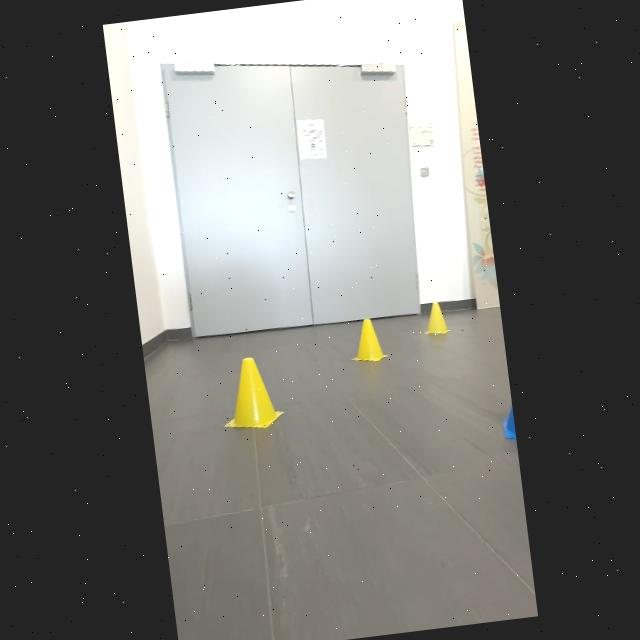yellow_cone: (217, 348, 290, 441), (348, 314, 390, 370), (418, 292, 454, 338)
